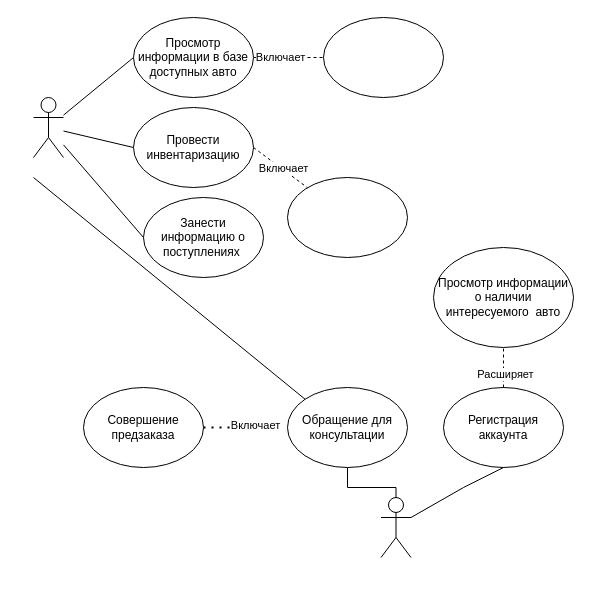
The diagram is 591 pixels wide and 596 high, and some of its shapes have lost their labels. The shapes that lost their labels are listed below. From the top down, each one's centre as x and y in pixels, then its label:
At pixel 383 57: "Просмотреть каталог авто".
At pixel 48 127: "Менеджер".
At pixel 347 217: "Просмотр изменение информации о товаре".
At pixel 395 527: "Клиент".
